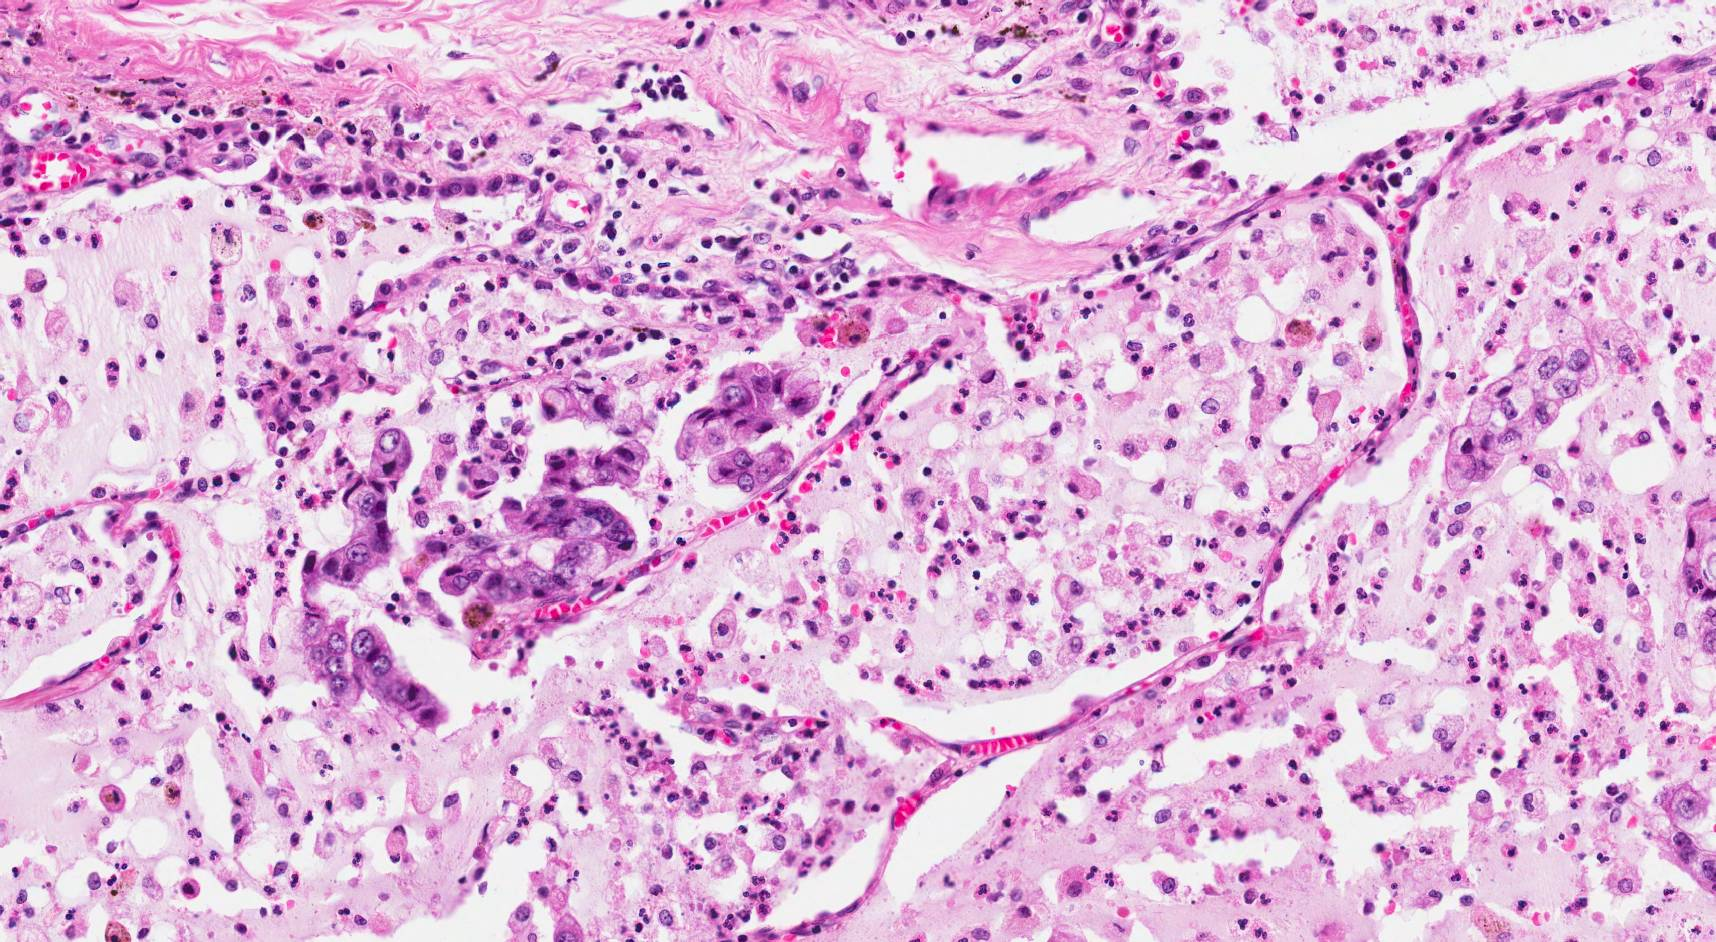stas: (438, 438, 646, 606), (1441, 325, 1598, 493), (299, 594, 450, 735), (676, 360, 828, 494), (298, 431, 414, 594)
